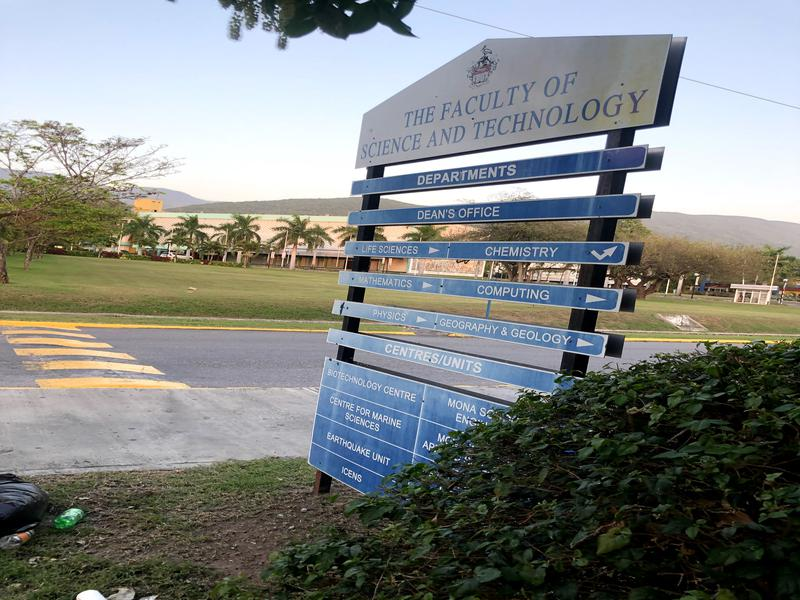18.0055634_-76.7484079_scitechsign: (259, 24, 720, 508)
